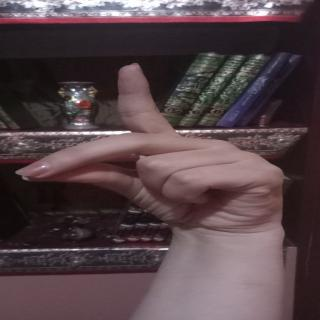TAA: (4, 60, 309, 240)
